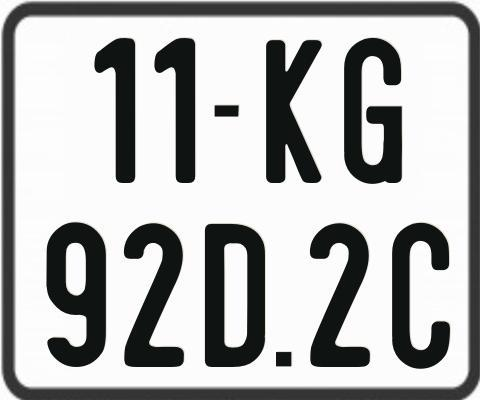1: (92, 37, 137, 186), (152, 38, 196, 187)
2: (124, 220, 185, 365), (309, 220, 370, 364)
9: (46, 222, 106, 373)
C: (389, 220, 448, 366)
D: (203, 221, 268, 368)
G: (341, 35, 400, 186)
K: (264, 38, 321, 187)
